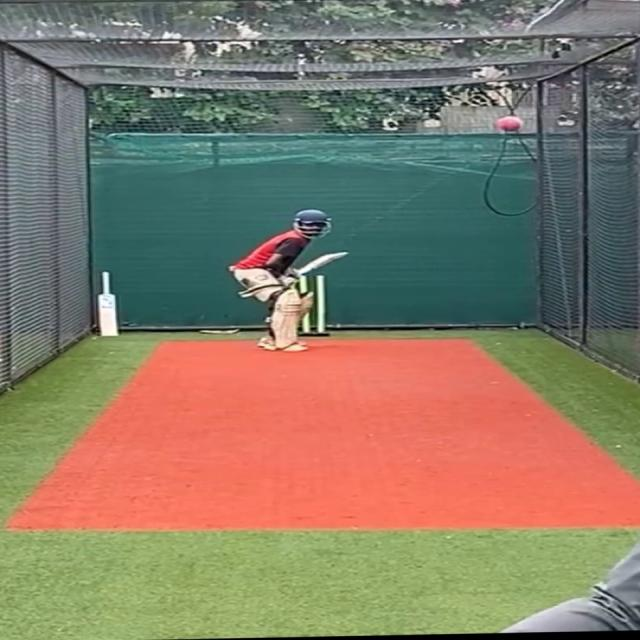ball: (496, 114, 528, 134)
stump: (301, 271, 332, 334)
